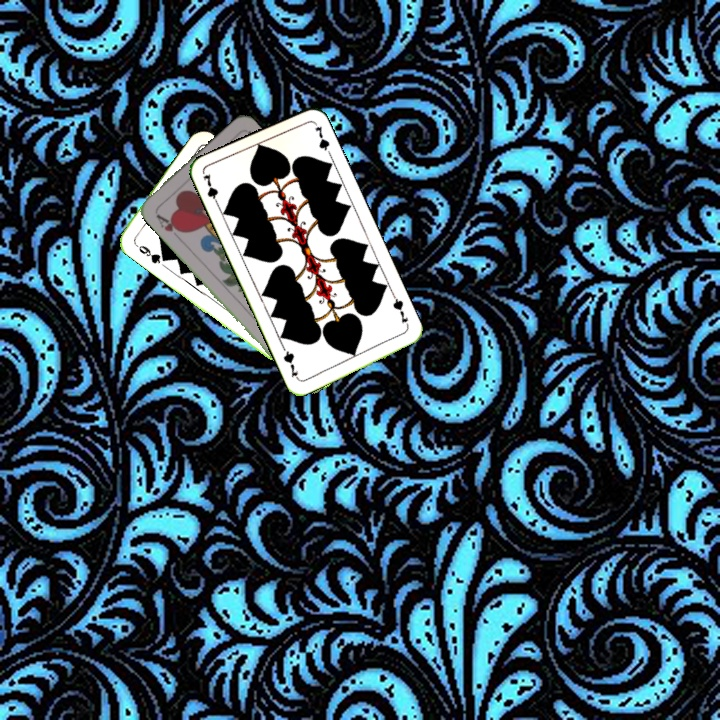G7: (199, 170, 222, 209), (389, 292, 412, 330)
G9: (130, 238, 167, 266)
HA: (152, 208, 186, 242)
